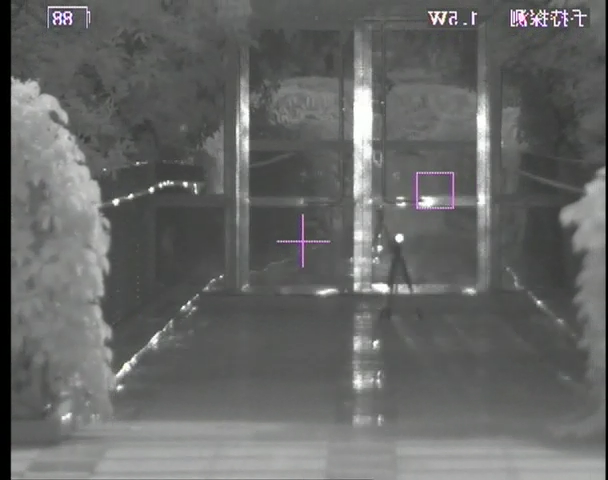my: (393, 232, 405, 244)
